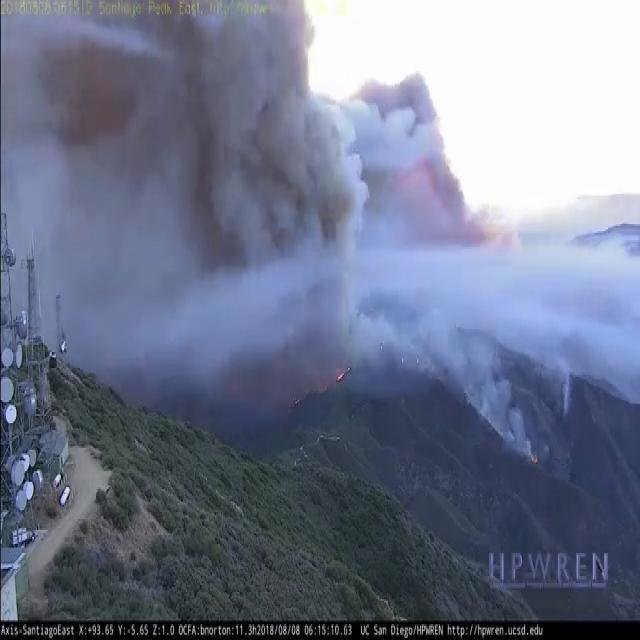Fire: (337, 362, 352, 382), (531, 446, 541, 466)
Smoke: (469, 334, 531, 461), (418, 300, 468, 396), (349, 309, 415, 362), (556, 355, 570, 421)
